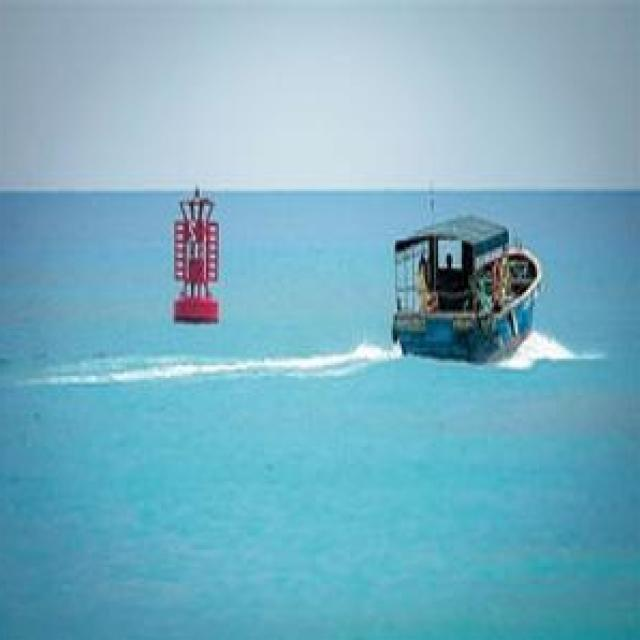houseboat: (386, 215, 544, 366)
